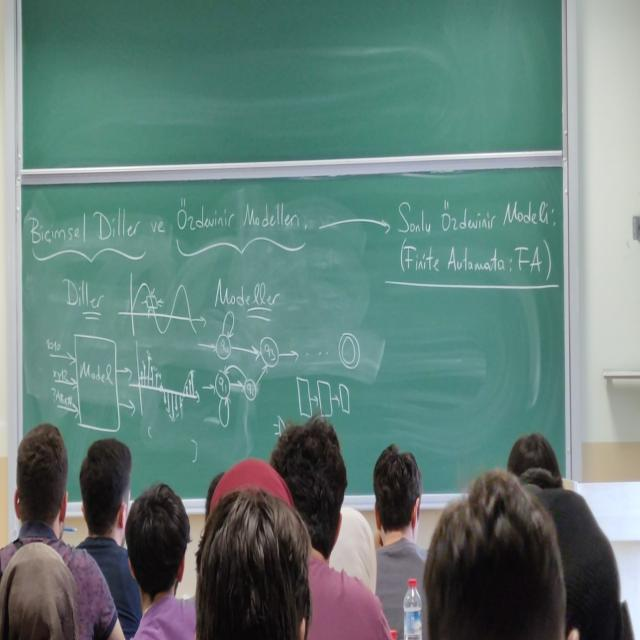image: (40, 310, 140, 434), (200, 322, 300, 424), (119, 328, 204, 436), (117, 259, 208, 338), (293, 328, 364, 417)
text: (396, 193, 552, 284), (172, 194, 304, 244), (27, 201, 139, 251), (210, 271, 280, 317), (58, 267, 102, 309)
